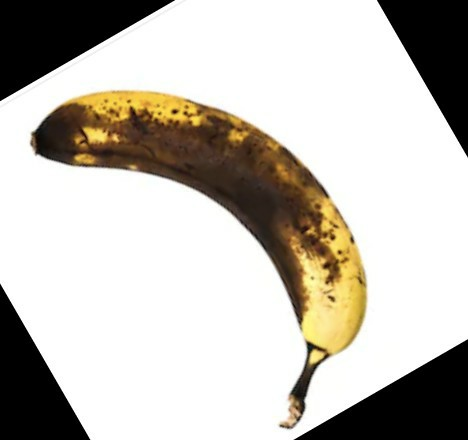rotten_banana: (32, 87, 370, 419)
